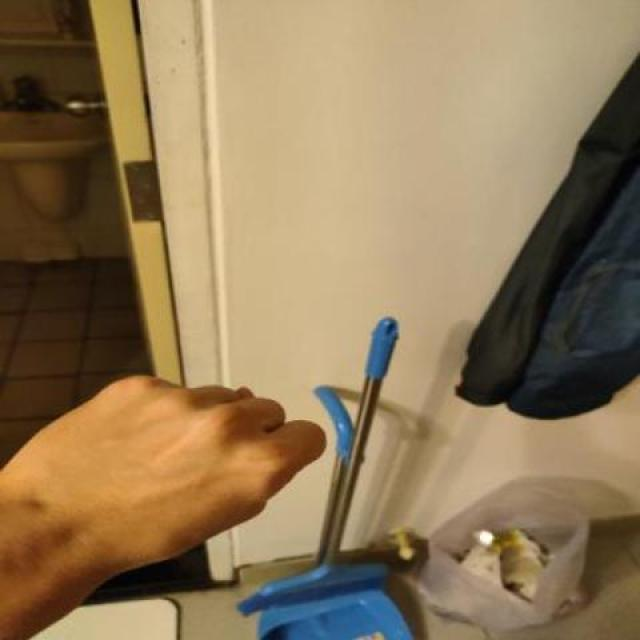Closed Hand: (1, 354, 326, 640)
